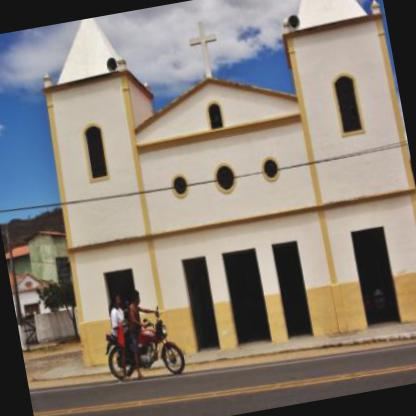motorcycle: (98, 306, 188, 389)
